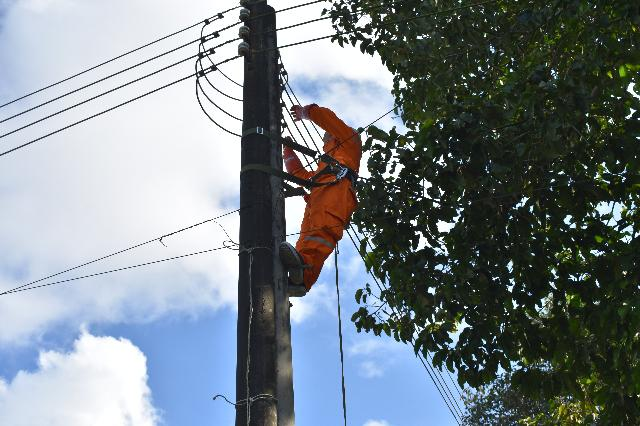gloves: (276, 135, 307, 180), (285, 100, 323, 123)
harness: (306, 144, 368, 189)
helmet: (318, 121, 367, 147)
shoes: (270, 236, 306, 287), (275, 279, 314, 300)
